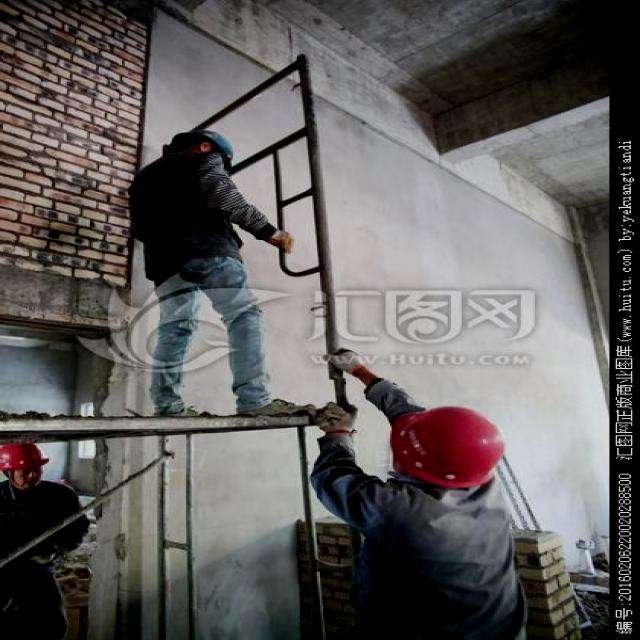face_mask: (12, 460, 47, 490)
hand_glove: (306, 400, 361, 434), (321, 342, 365, 377), (266, 223, 296, 257)
head_helmet: (386, 405, 505, 489), (176, 125, 241, 162), (0, 438, 50, 472)
person: (125, 120, 304, 420), (316, 383, 523, 640), (0, 441, 117, 640)
shoes: (229, 386, 309, 421), (146, 391, 212, 425)
